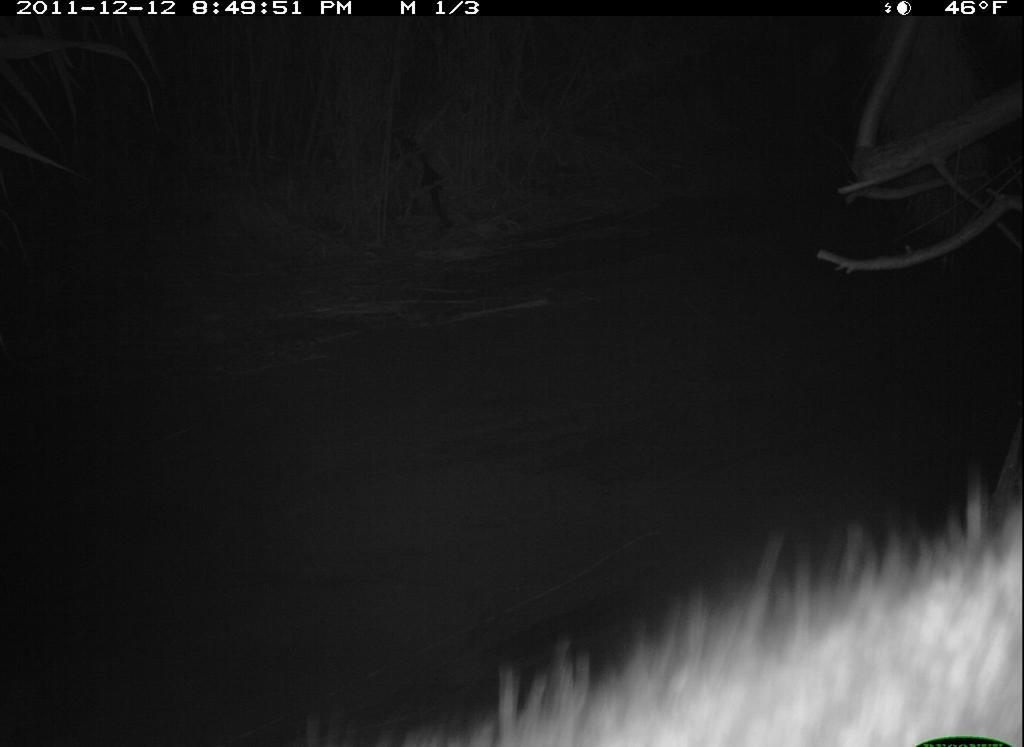raccoon: (290, 459, 1019, 739)
